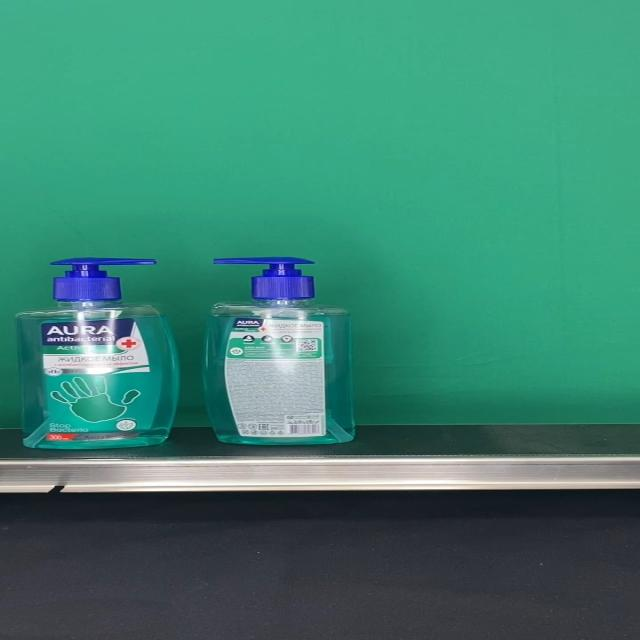Bottle: (15, 257, 180, 450), (204, 257, 356, 445)
Cap: (212, 257, 316, 300), (50, 258, 156, 300)
